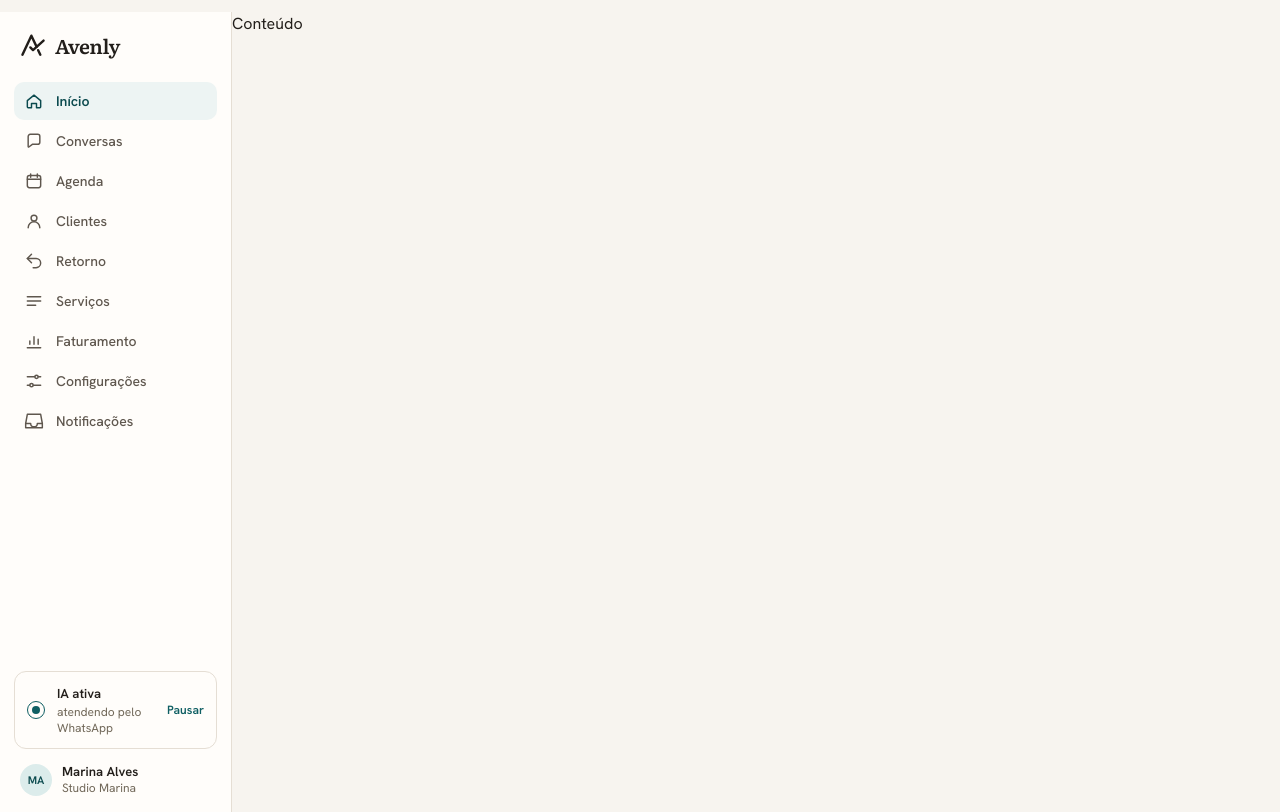
Test case: Goal087 prova 3: a conta › o menu fecha ao clicar fora e ao escolher Minha conta (2026-10-16)
Expected: the text "IA ativa" is shown, [57, 685, 101, 702]
What coordinates should you click on to do the following:
click the button "MA Marina Alves Studio Marina"
I would click on:
 (116, 780)
Its box is [14, 763, 217, 796].
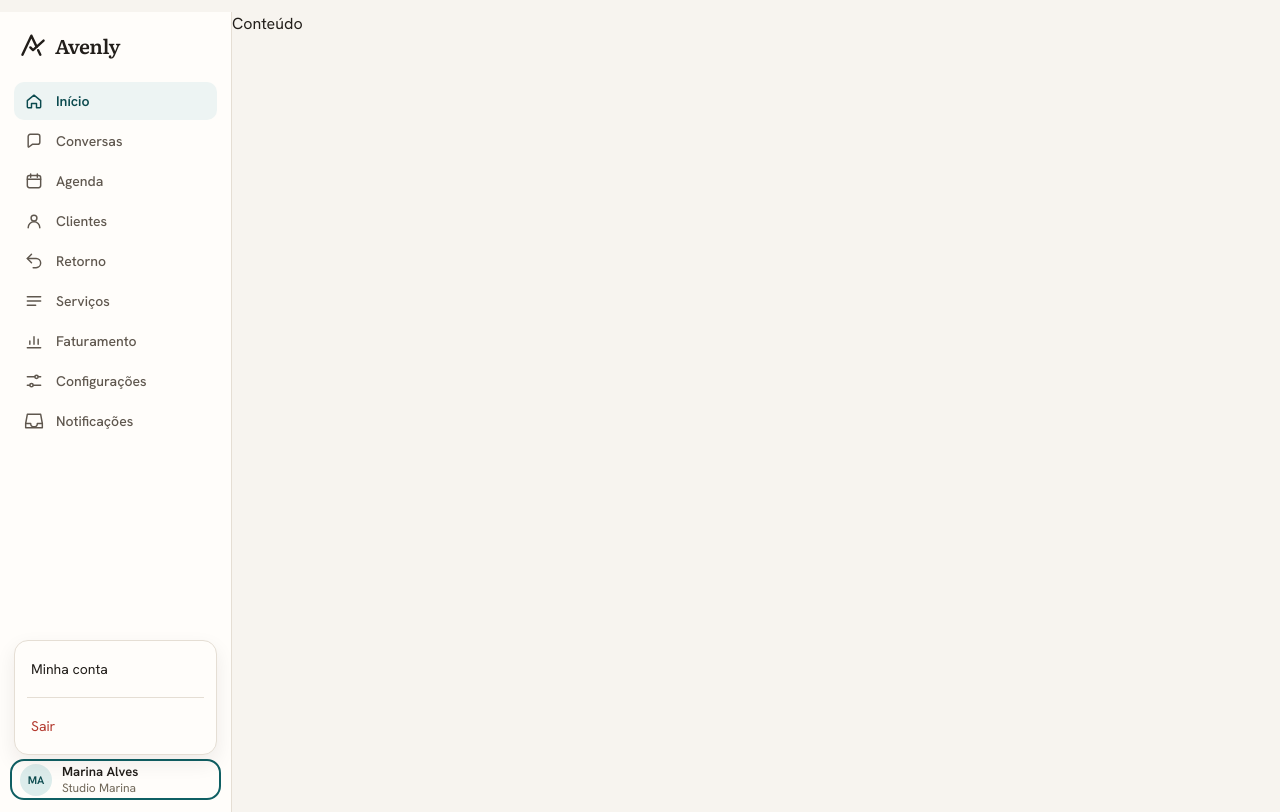
Result: the element with id "account-menu" is shown at [14, 640, 217, 755]
What coordinates should you click on to do the following:
click the element that starts with "Ir para o conteúdo"
I would click on:
 (640, 412)
Its box is [0, 12, 1279, 811].
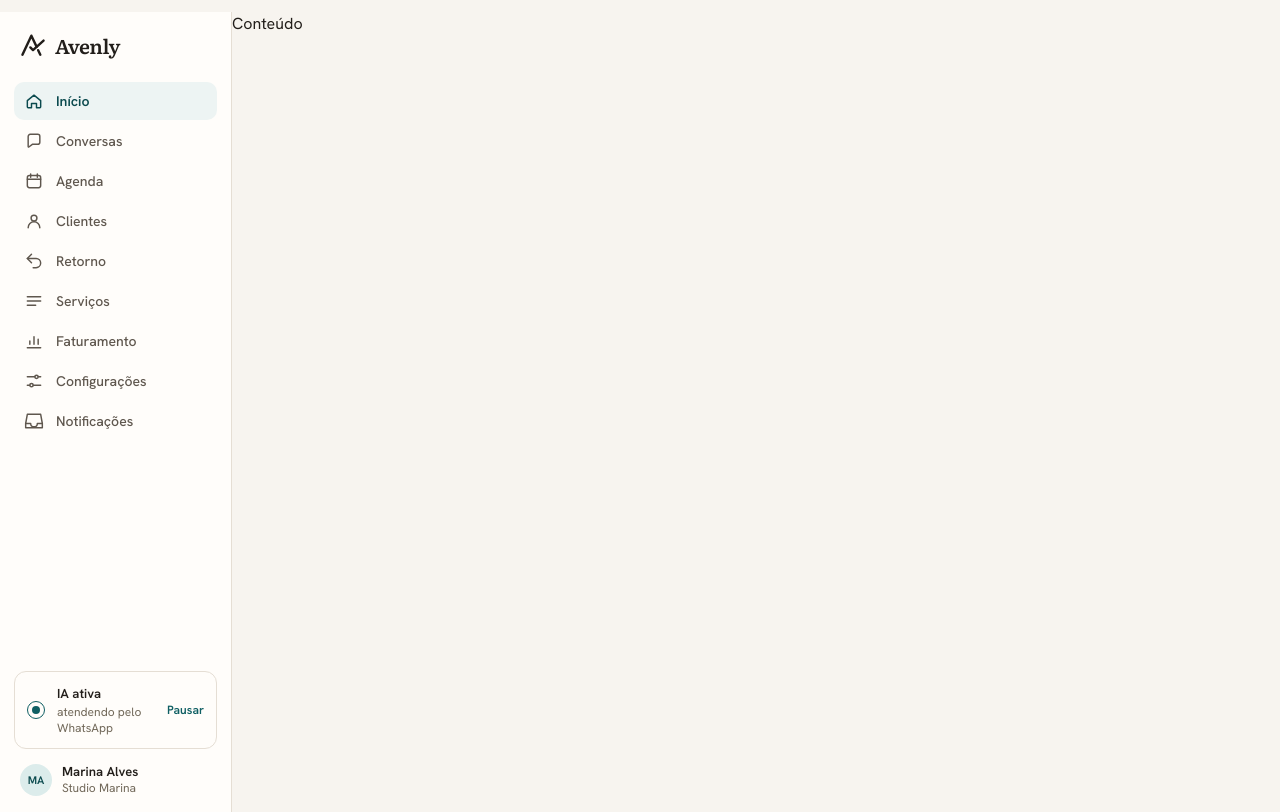
Result: the element with id "account-menu" is gone
What coordinates should you click on to do the following:
click the button "MA Marina Alves Studio Marina"
I would click on:
 (116, 780)
Its box is [14, 763, 217, 796].
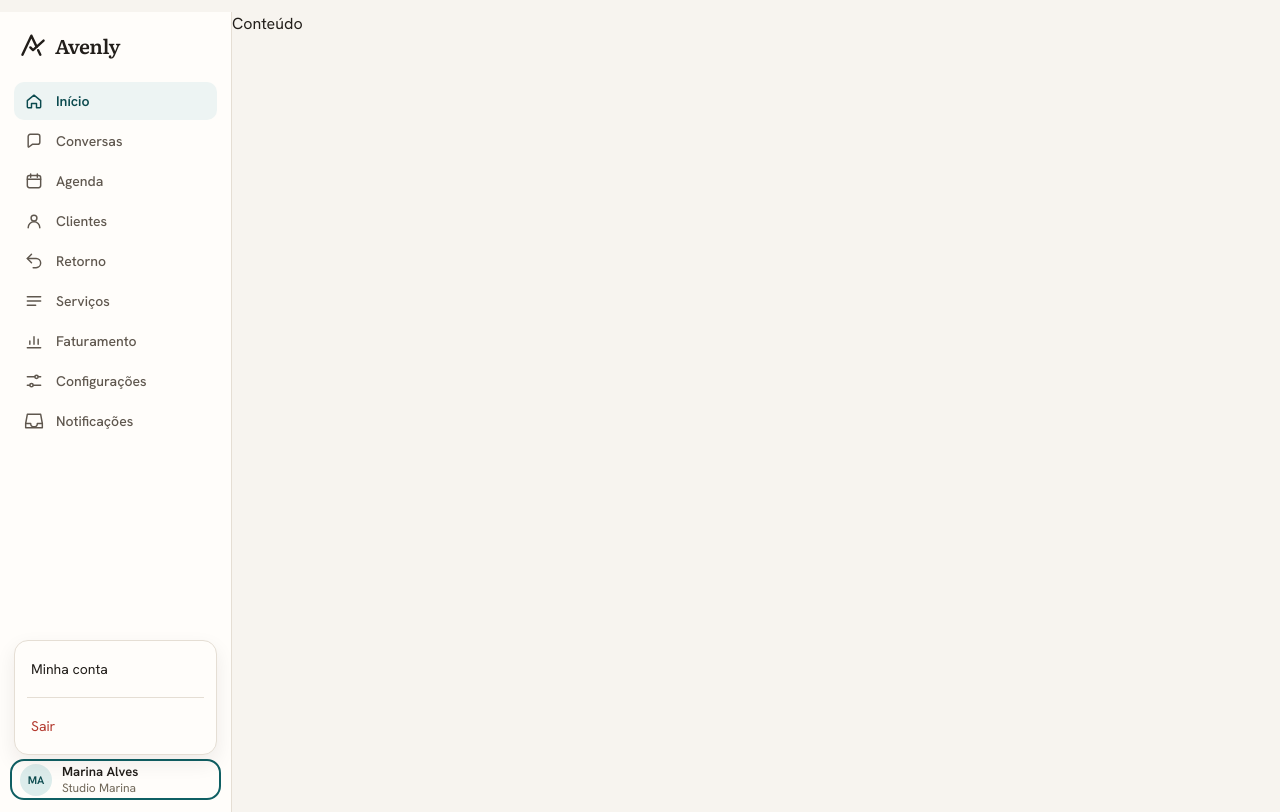
What coordinates should you click on to do the following:
click the link "Minha conta"
I would click on:
 (69, 668)
Its box is [31, 660, 108, 678].
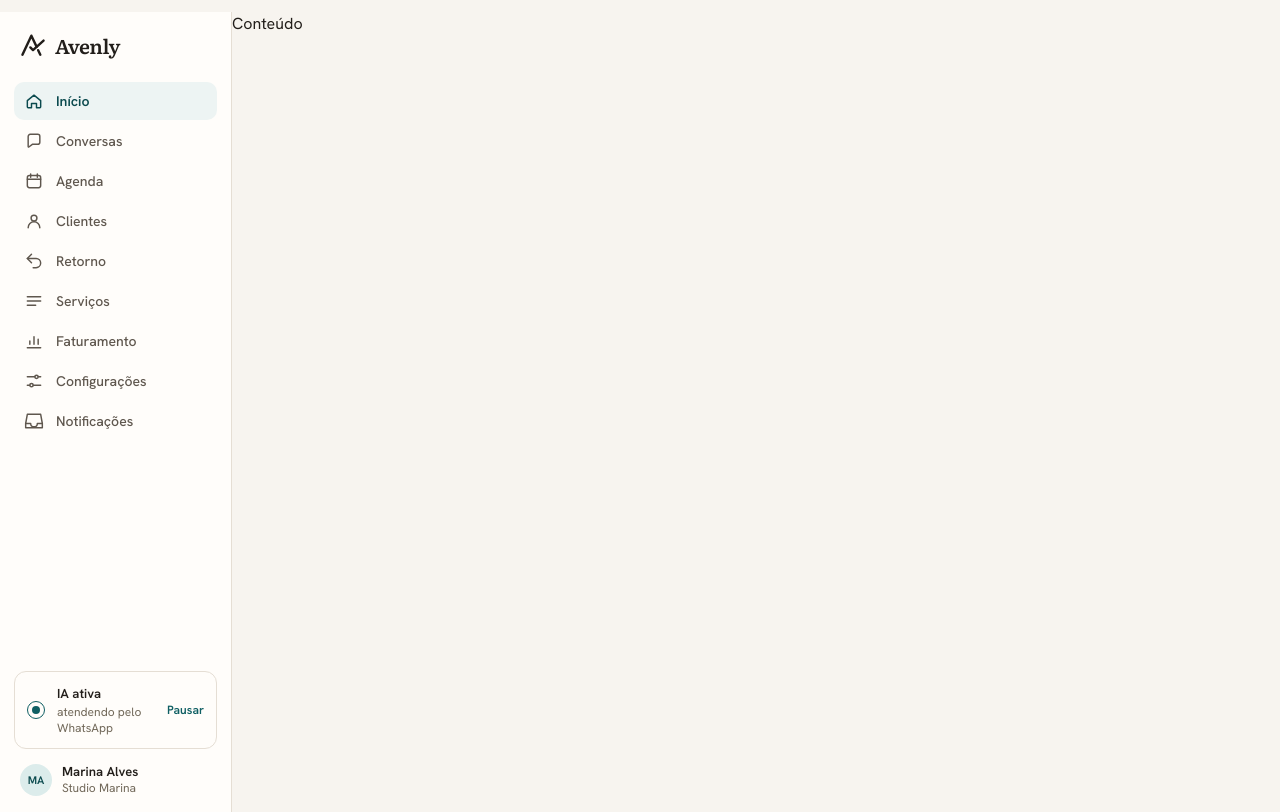
Result: the element with id "account-menu" is gone
